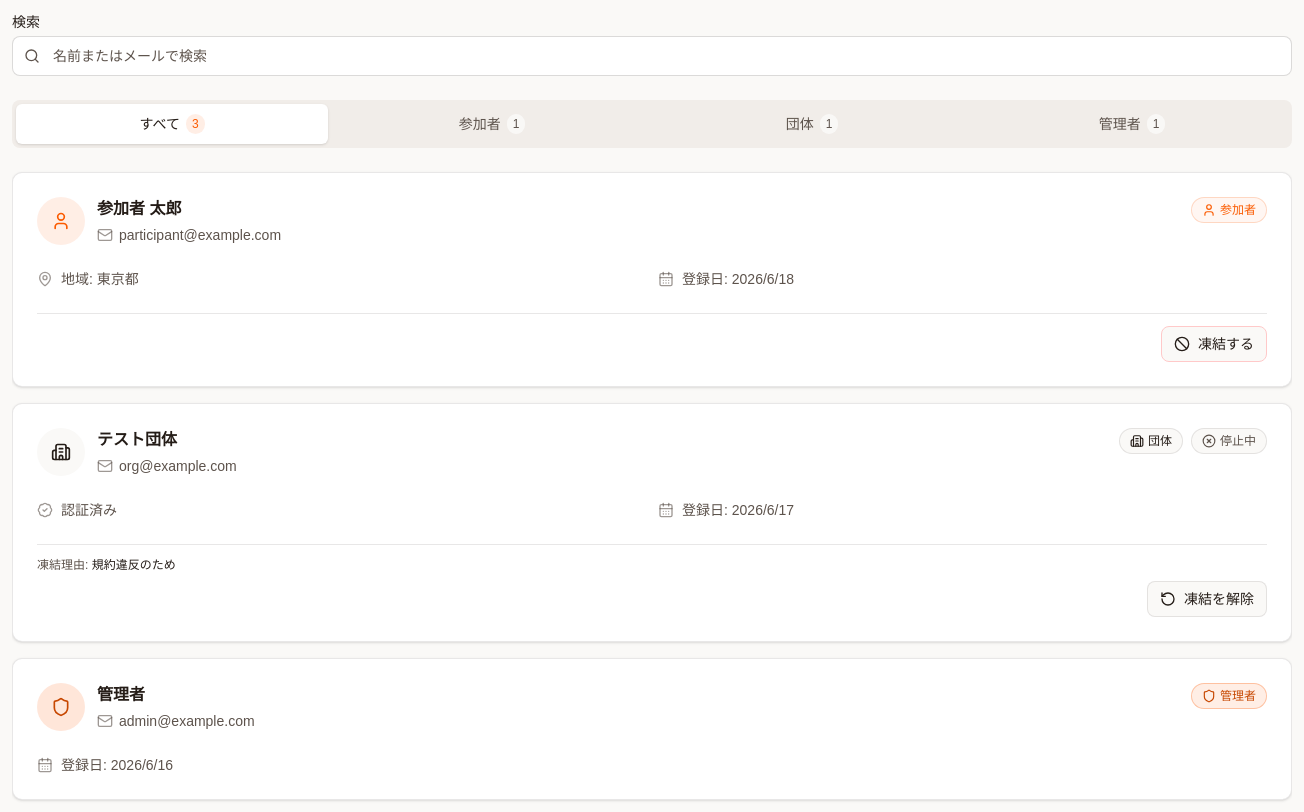
Test case: AdminUserList › ロールタブで表示対象を絞り込める
Click the button "団体 1" at (812, 124), box [656,104,968,144]
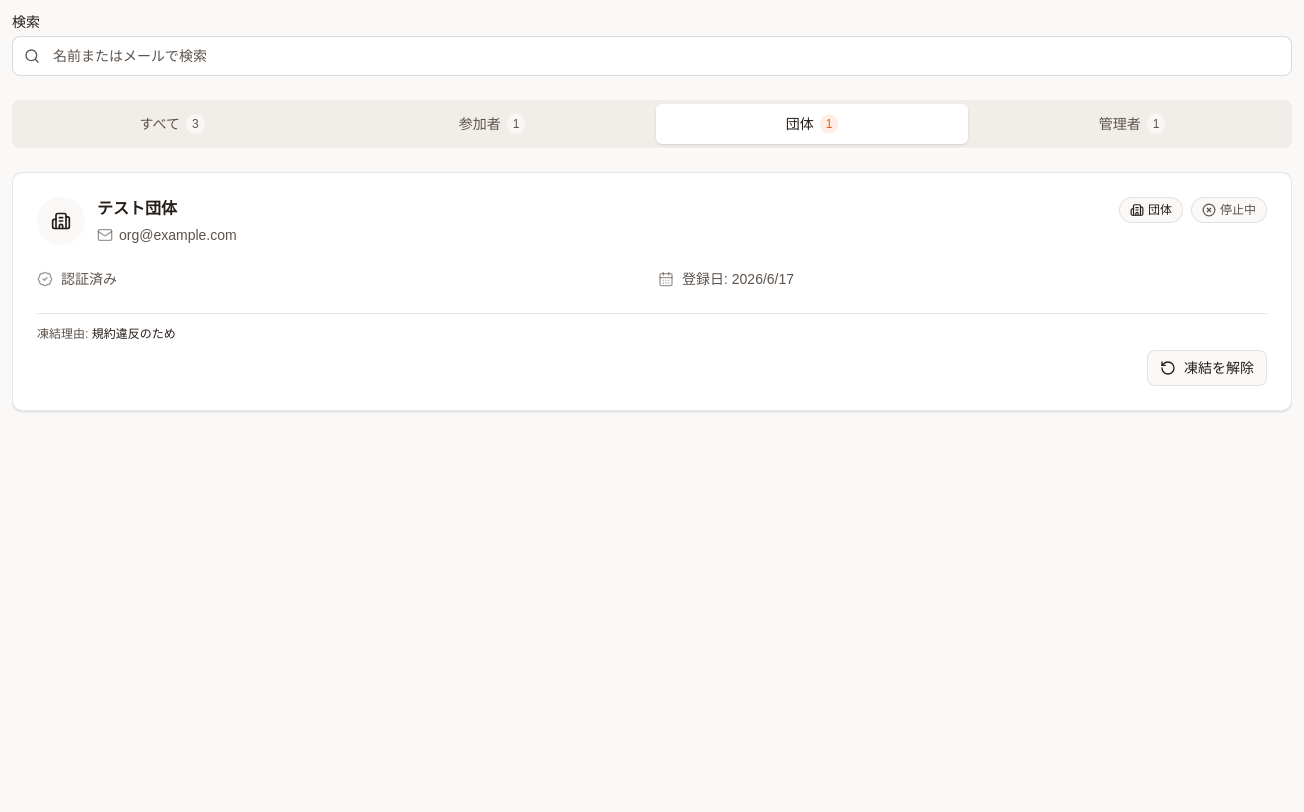
Expected: the heading "テスト団体" is shown, [97,200,177,217]
Result: the heading "参加者 太郎" is gone
Result: the text "admin@example.com" is gone
